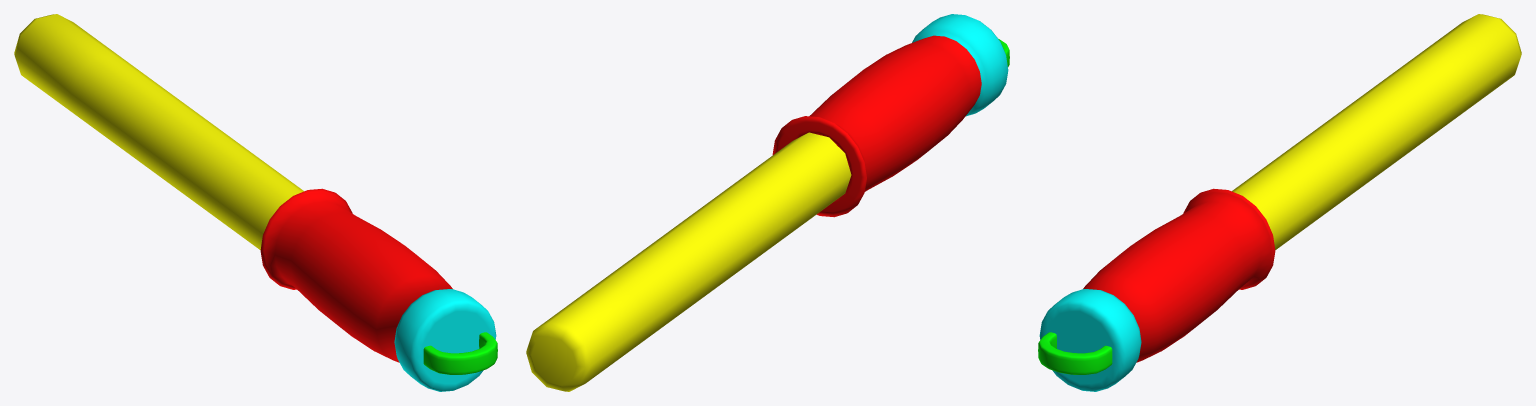
The model's file is Glow_Stick.fbx.
3 views of the same model, side by side, from view 1: azimuth 30°, elevation 25°; view 2: azimuth 150°, elevation 25°; view 3: azimuth 330°, elevation 25° (orthographic).
Parts seen in each view (by area): view 1: Glow_Stick; view 2: Glow_Stick; view 3: Glow_Stick.
Boxes of the visible parts, box(x1,y1,x2,y2) form: Glow_Stick: box(14, 14, 497, 391); Glow_Stick: box(526, 14, 1009, 391); Glow_Stick: box(1038, 14, 1521, 391).
Size of the model in its own units: 3.05 by 3.05 by 24.33.
